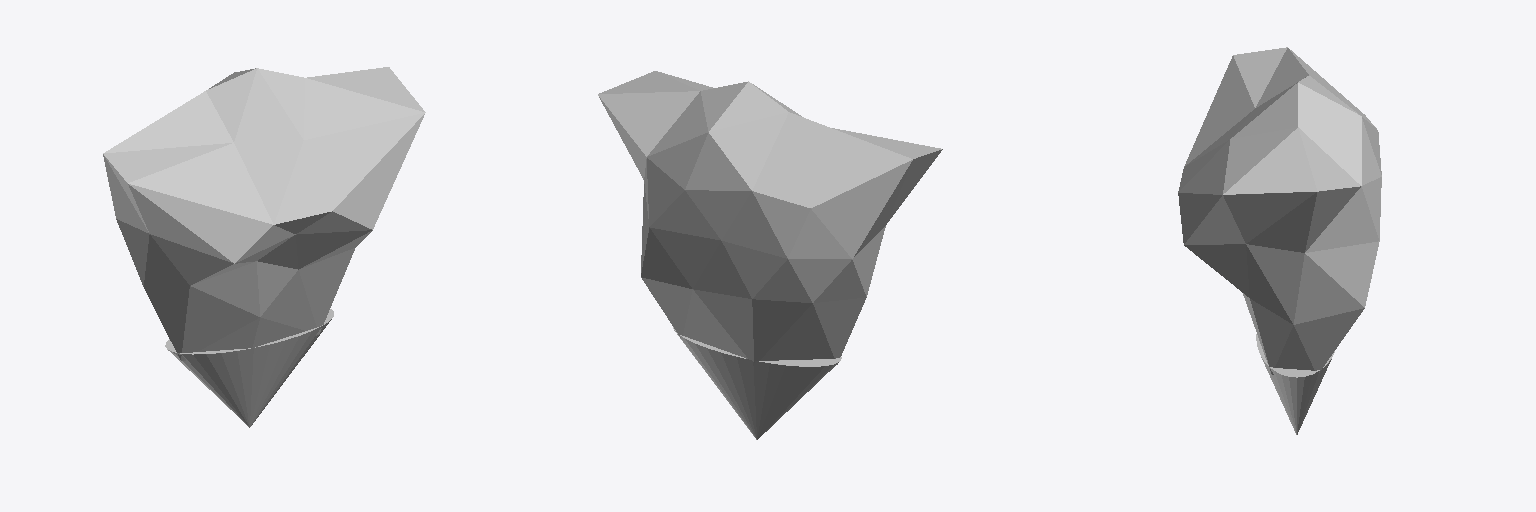
Rendered from body.obj.
3 renders of one model, left to right at view 1: azimuth 30°, elevation 25°; view 2: azimuth 150°, elevation 25°; view 3: azimuth 270°, elevation 25°, orthographic.
Parts seen in each view (by area): view 1: Esfera_icosaédrica, Cone; view 2: Esfera_icosaédrica, Cone; view 3: Esfera_icosaédrica, Cone.
Boxes of the visible parts, box(x1,y1,x2,y2) form: Esfera_icosaédrica: box(103, 67, 425, 360); Cone: box(165, 309, 333, 427); Esfera_icosaédrica: box(598, 71, 942, 364); Cone: box(673, 327, 841, 439); Esfera_icosaédrica: box(1178, 47, 1381, 374); Cone: box(1256, 334, 1334, 434).
Bounding box in the file's own units: 2.58 × 2.9 × 1.5.